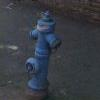a fire hydrant: (24, 11, 60, 91)
